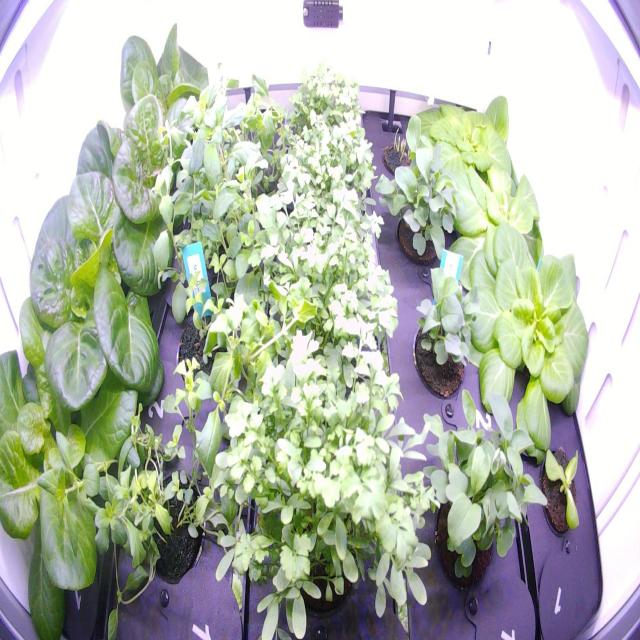Ready: (1, 314, 170, 640), (9, 158, 178, 436), (62, 73, 200, 314), (101, 8, 220, 174)
young: (441, 207, 606, 469), (396, 79, 528, 228), (425, 145, 553, 282), (527, 433, 590, 552)
